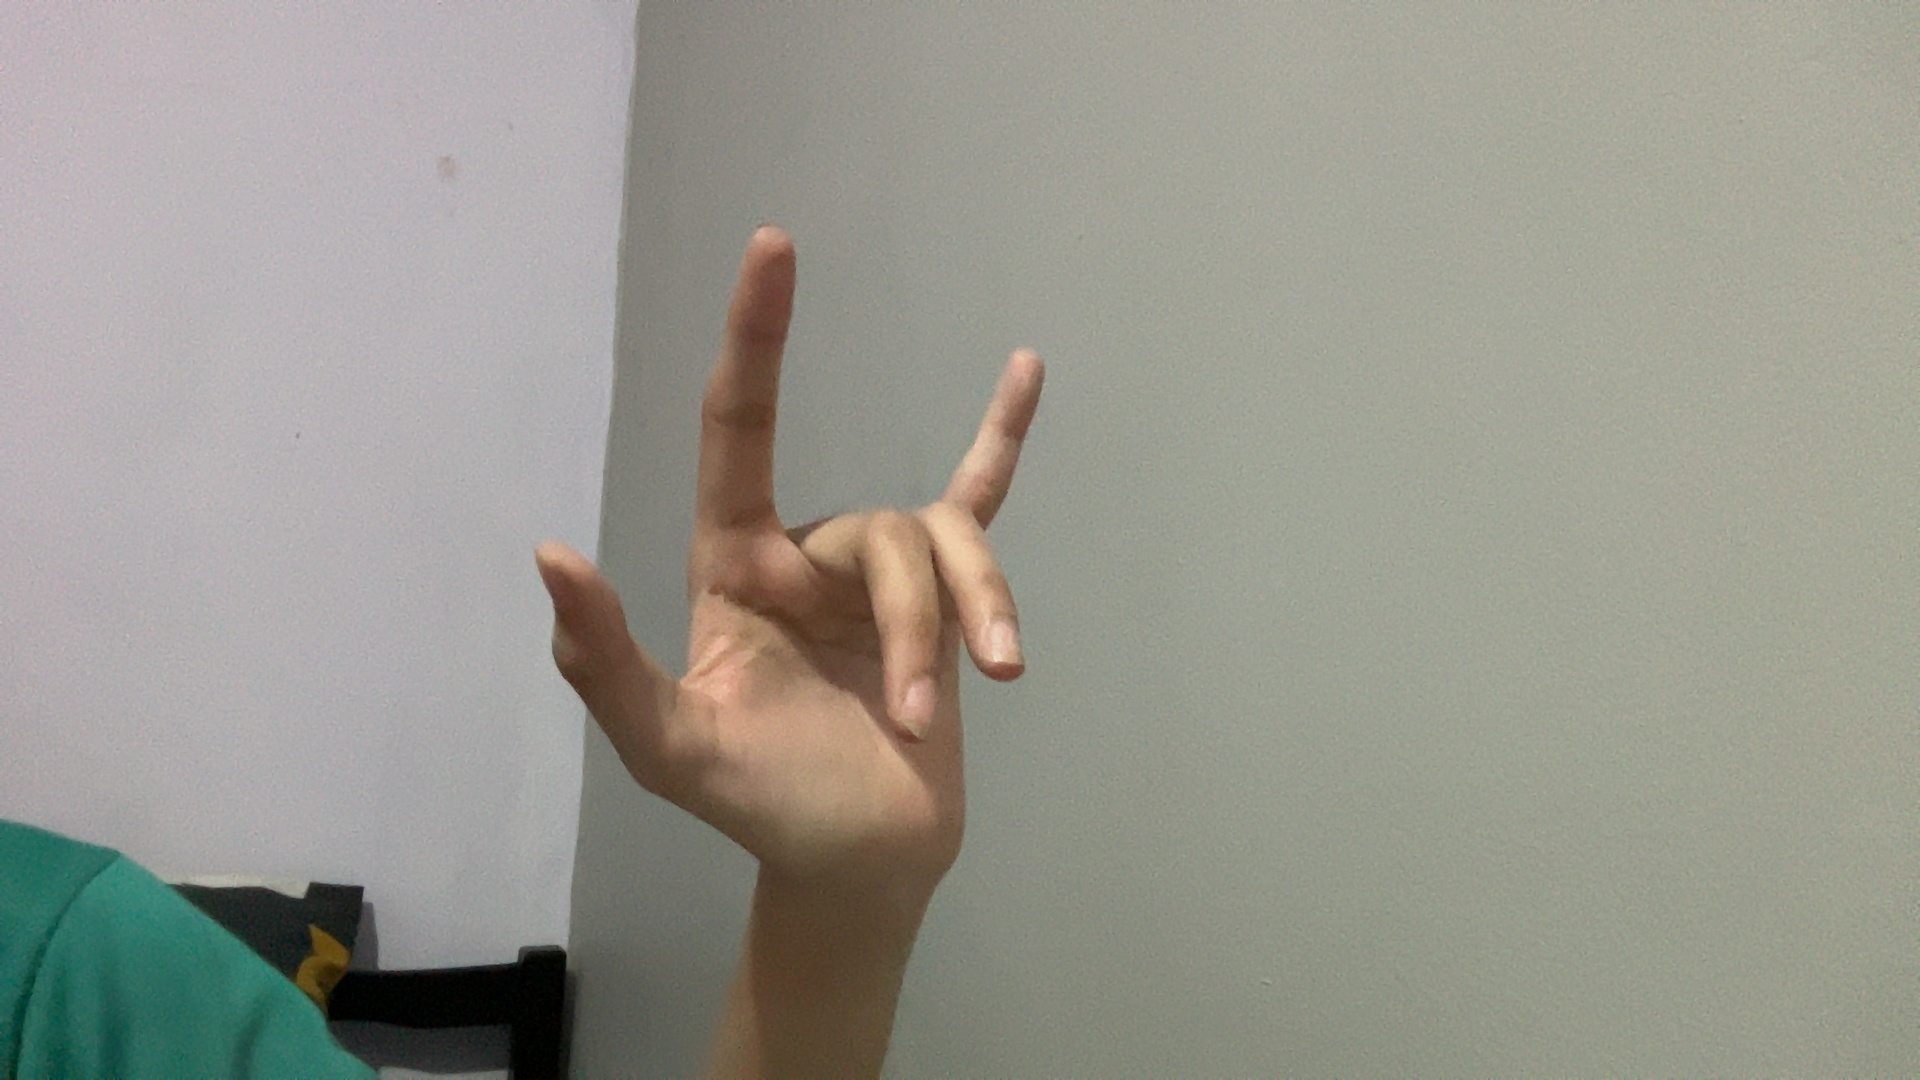I Love You: (410, 196, 1217, 905)
